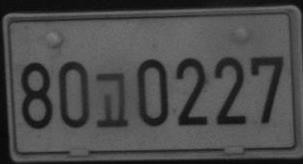0: (135, 57, 169, 127), (57, 60, 90, 128)
2: (174, 56, 208, 126), (213, 55, 246, 125)
7: (250, 55, 284, 124)
8: (20, 61, 54, 129)
고: (95, 71, 128, 128)
